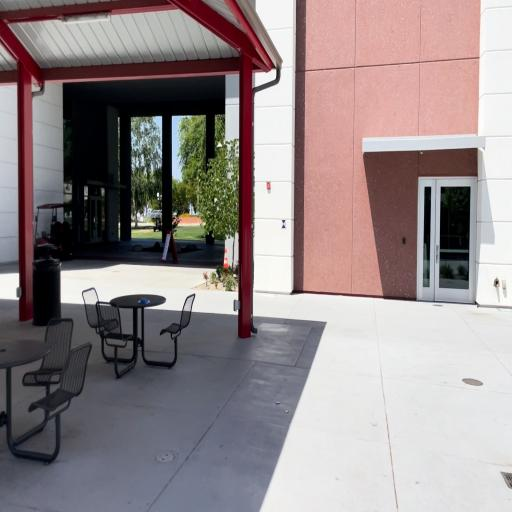target9: (281, 219, 287, 229)
